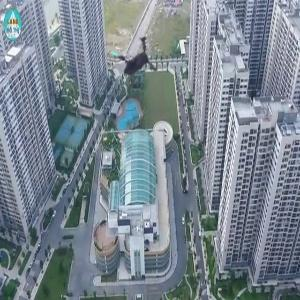drone: (86, 16, 170, 100)
